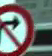Don't turn right: (0, 1, 37, 54)
